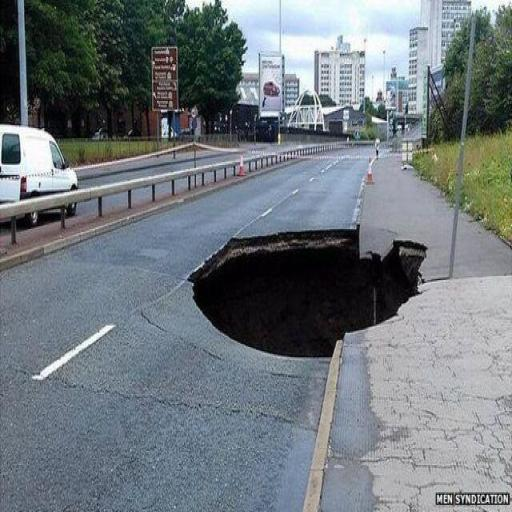Concentric_Crack: (190, 226, 427, 356)
